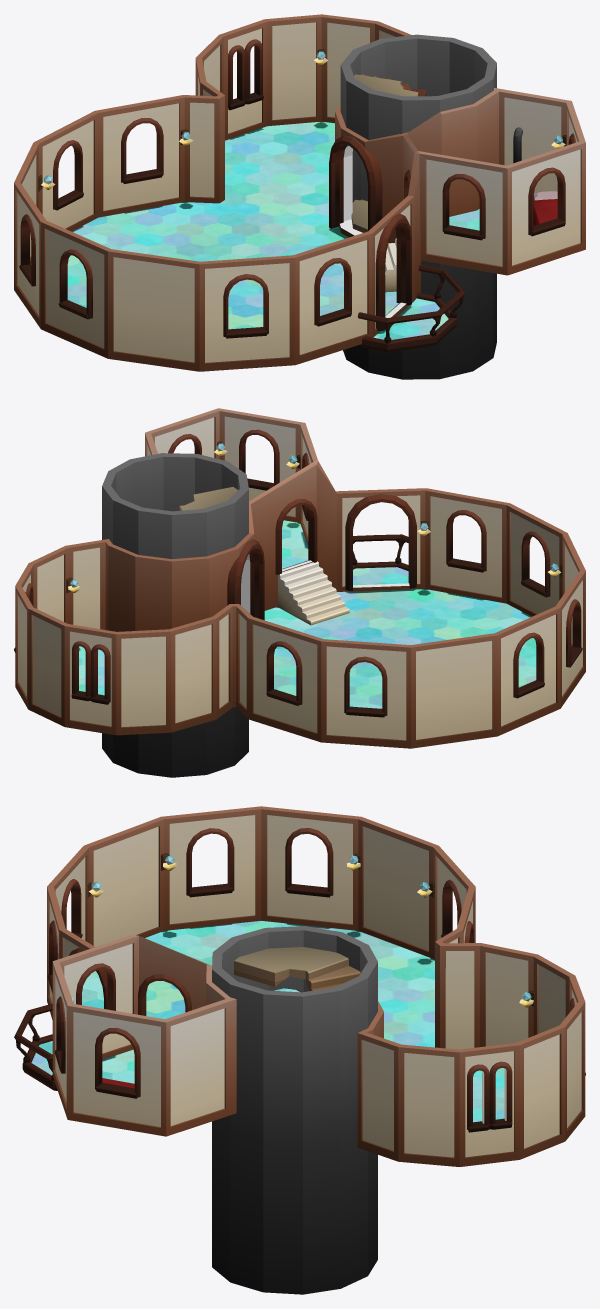
The model's file is new_main_room.gltf.
The picture shows the model from 3 angles, top to bottom: view 1: azimuth 30°, elevation 25°; view 2: azimuth 150°, elevation 25°; view 3: azimuth 270°, elevation 25°; orthographic projection. The views are drawn at different scales.
Visible parts, largest first — view 1: main_structure.001; view 2: main_structure.001; view 3: main_structure.001.
Part boxes in pixels (x1=…): main_structure.001: x1=14, y1=14, x2=585, y2=379; main_structure.001: x1=14, y1=408, x2=585, y2=777; main_structure.001: x1=14, y1=806, x2=585, y2=1294.
Bounding box in the file's own units: 14.61 × 8.01 × 13.94.
2 materials, 2 textured.
